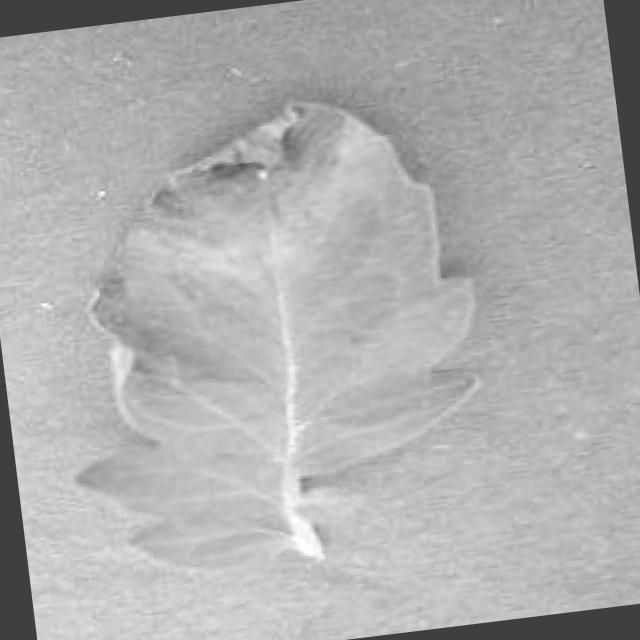leaf blight: (77, 94, 476, 565)
